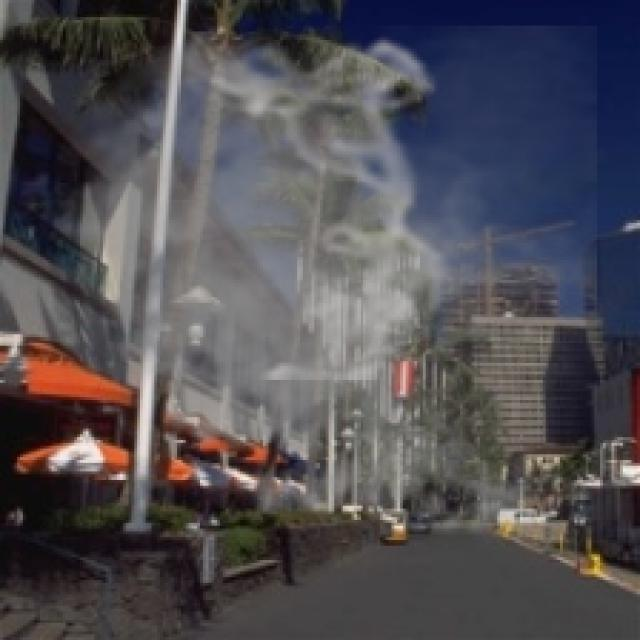smoke: (37, 26, 597, 551)
